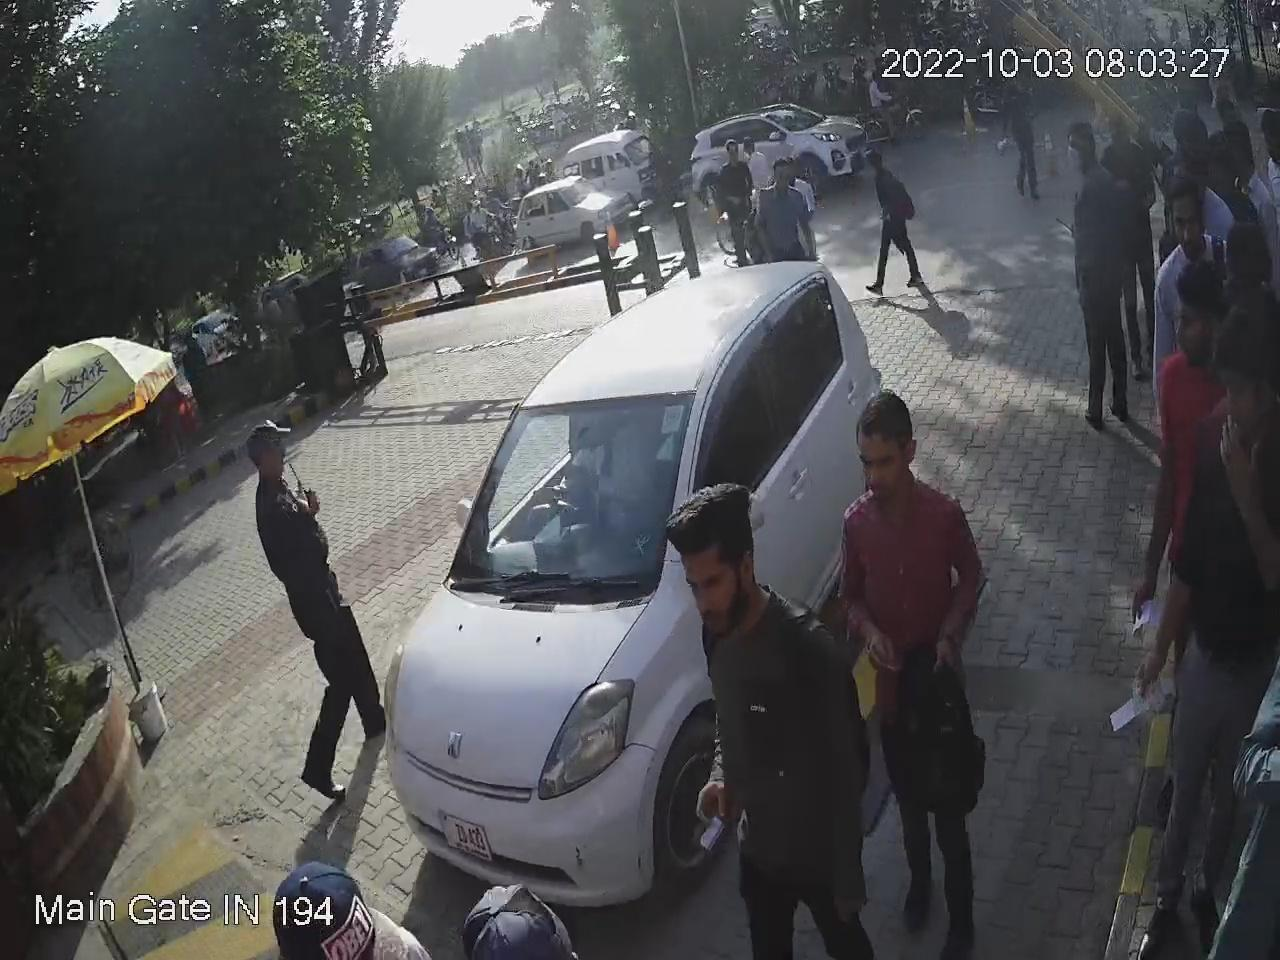windshield: (440, 382, 702, 595)
